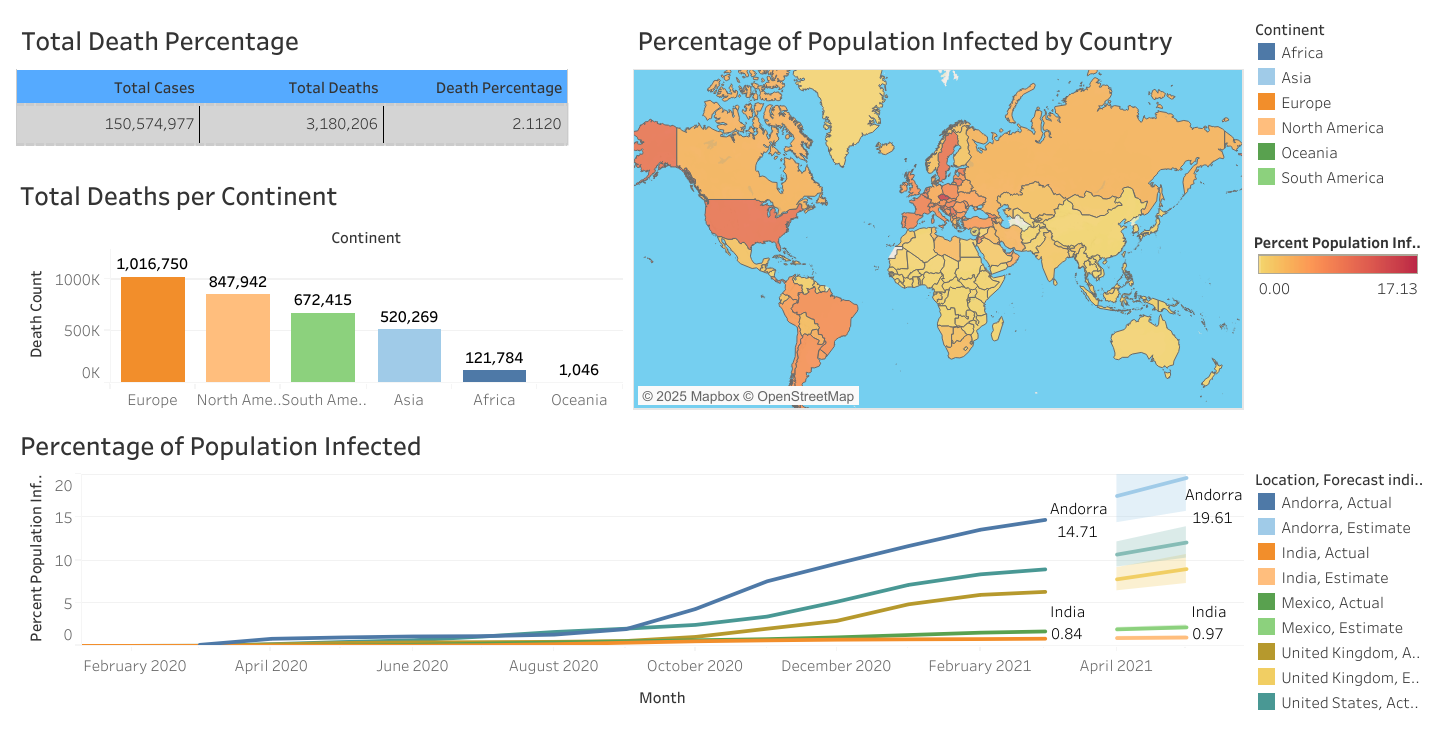

The dashboard page shown, as its layout file describes it:
{"tool":"tableau","page":{"name":"Dashboard 1","canvas":[1000,1000],"units":"permille","ordinal":0},"visuals":[{"type":"worksheet","title":"Sheet 1","mark":"Automatic","box":[4.8,10,444.7,161.1]},{"type":"worksheet","title":"Sheet 3","mark":"Automatic","box":[449.5,10,449.1,551.8]},{"type":"legend","title":"Sheet 2","param":"[federated.1uacj3a1k9nhqf16u1voh0n0zg8s].[none:location:nk]","box":[898.6,10,96.6,229.7]},{"type":"worksheet","title":"Sheet 2","mark":"Automatic","rows":["TotalDeathCount"],"cols":["location"],"box":[4.8,171,444.7,390.8]},{"type":"legend","title":"Sheet 3","param":"[federated.1ifm5vo1apxt2e14b6wsb04v4t36].[sum:PercentPopulationInfected:qk]","box":[898.6,239.7,96.6,389.5]},{"type":"worksheet","title":"Sheet 4","mark":"Automatic","rows":["PercentPopulationInfected"],"cols":["date"],"box":[4.8,561.8,893.8,428.2]},{"type":"legend","title":"Sheet 4","param":"[federated.18ut87715ma45n11pkm5e04n9vsp].[none:Location:nk]\n[federated.18ut87715","box":[898.6,629.2,96.6,299.6]}]}

Visuals, with their boxes on the dashboard's canvas, which has no fixed pixel size, in thousandths of its width and height (x1, y1, x2, y2). These are canvas units, not pixel positions in the 1438x730 screenshot, which may show the page scaled, cropped or inside an application window:
"Sheet 1" worksheet: {"x1": 5, "y1": 10, "x2": 450, "y2": 171}
"Sheet 3" worksheet: {"x1": 450, "y1": 10, "x2": 899, "y2": 562}
"Sheet 2" legend: {"x1": 899, "y1": 10, "x2": 995, "y2": 240}
"Sheet 2" worksheet: {"x1": 5, "y1": 171, "x2": 450, "y2": 562}
"Sheet 3" legend: {"x1": 899, "y1": 240, "x2": 995, "y2": 629}
"Sheet 4" worksheet: {"x1": 5, "y1": 562, "x2": 899, "y2": 990}
"Sheet 4" legend: {"x1": 899, "y1": 629, "x2": 995, "y2": 929}
